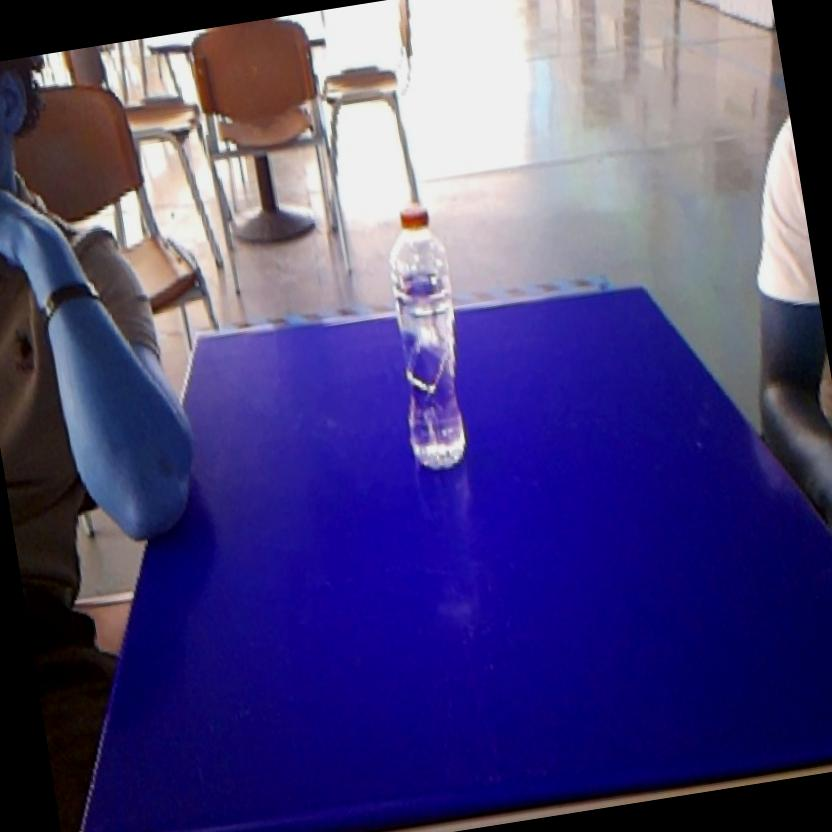no_label: (364, 187, 487, 484)
